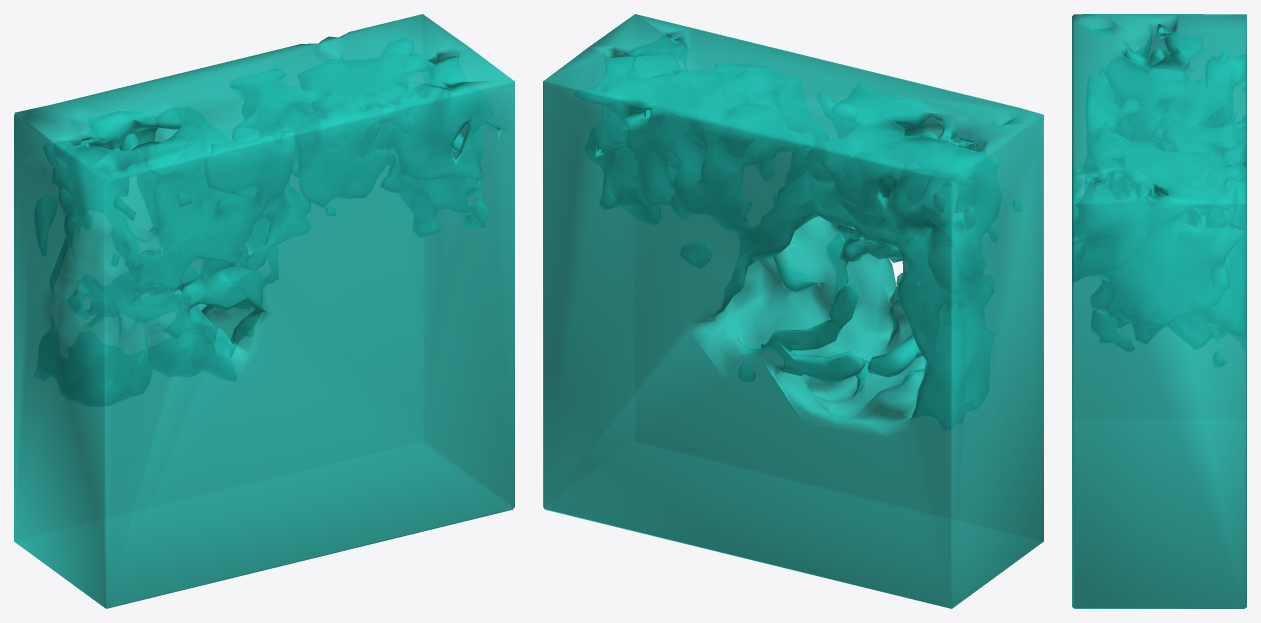
3 renders of one model, left to right at view 1: azimuth 30°, elevation 25°; view 2: azimuth 150°, elevation 25°; view 3: azimuth 270°, elevation 25°, orthographic. The views are drawn at different scales.
Parts seen in each view (by area): view 1: Liquid_Domain; view 2: Liquid_Domain; view 3: Liquid_Domain.
Part boxes in pixels (box(x1,y1,x2,y2)): Liquid_Domain: box(14, 14, 514, 608); Liquid_Domain: box(543, 14, 1043, 608); Liquid_Domain: box(1072, 14, 1246, 608).
Bounding box in the file's own units: 884 × 884 × 344.
